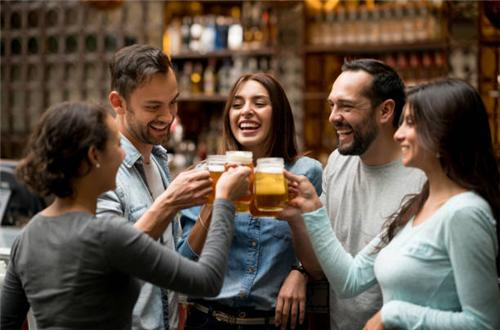alcohol: (253, 158, 287, 213), (225, 150, 254, 212), (202, 154, 223, 206)
